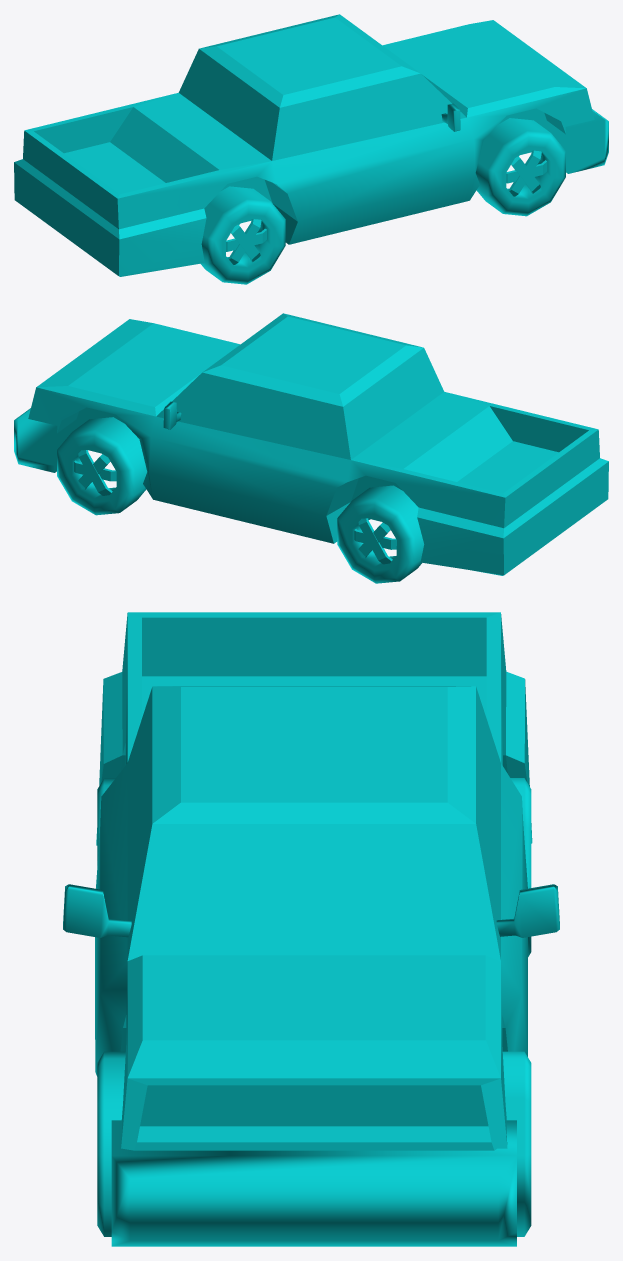
The model's file is broken_pickup_truck.fbx.
The picture shows the model from 3 angles, top to bottom: view 1: azimuth 30°, elevation 25°; view 2: azimuth 150°, elevation 25°; view 3: azimuth 270°, elevation 25°; orthographic projection. The views are drawn at different scales.
Parts seen in each view (by area): view 1: polySurface58; view 2: polySurface58; view 3: polySurface58.
Part boxes in pixels (box(x1,y1,x2,y2)): polySurface58: box(14, 14, 608, 284); polySurface58: box(14, 313, 608, 583); polySurface58: box(63, 612, 559, 1246).
Bounding box in the file's own units: 5.58 × 1.74 × 2.42.
